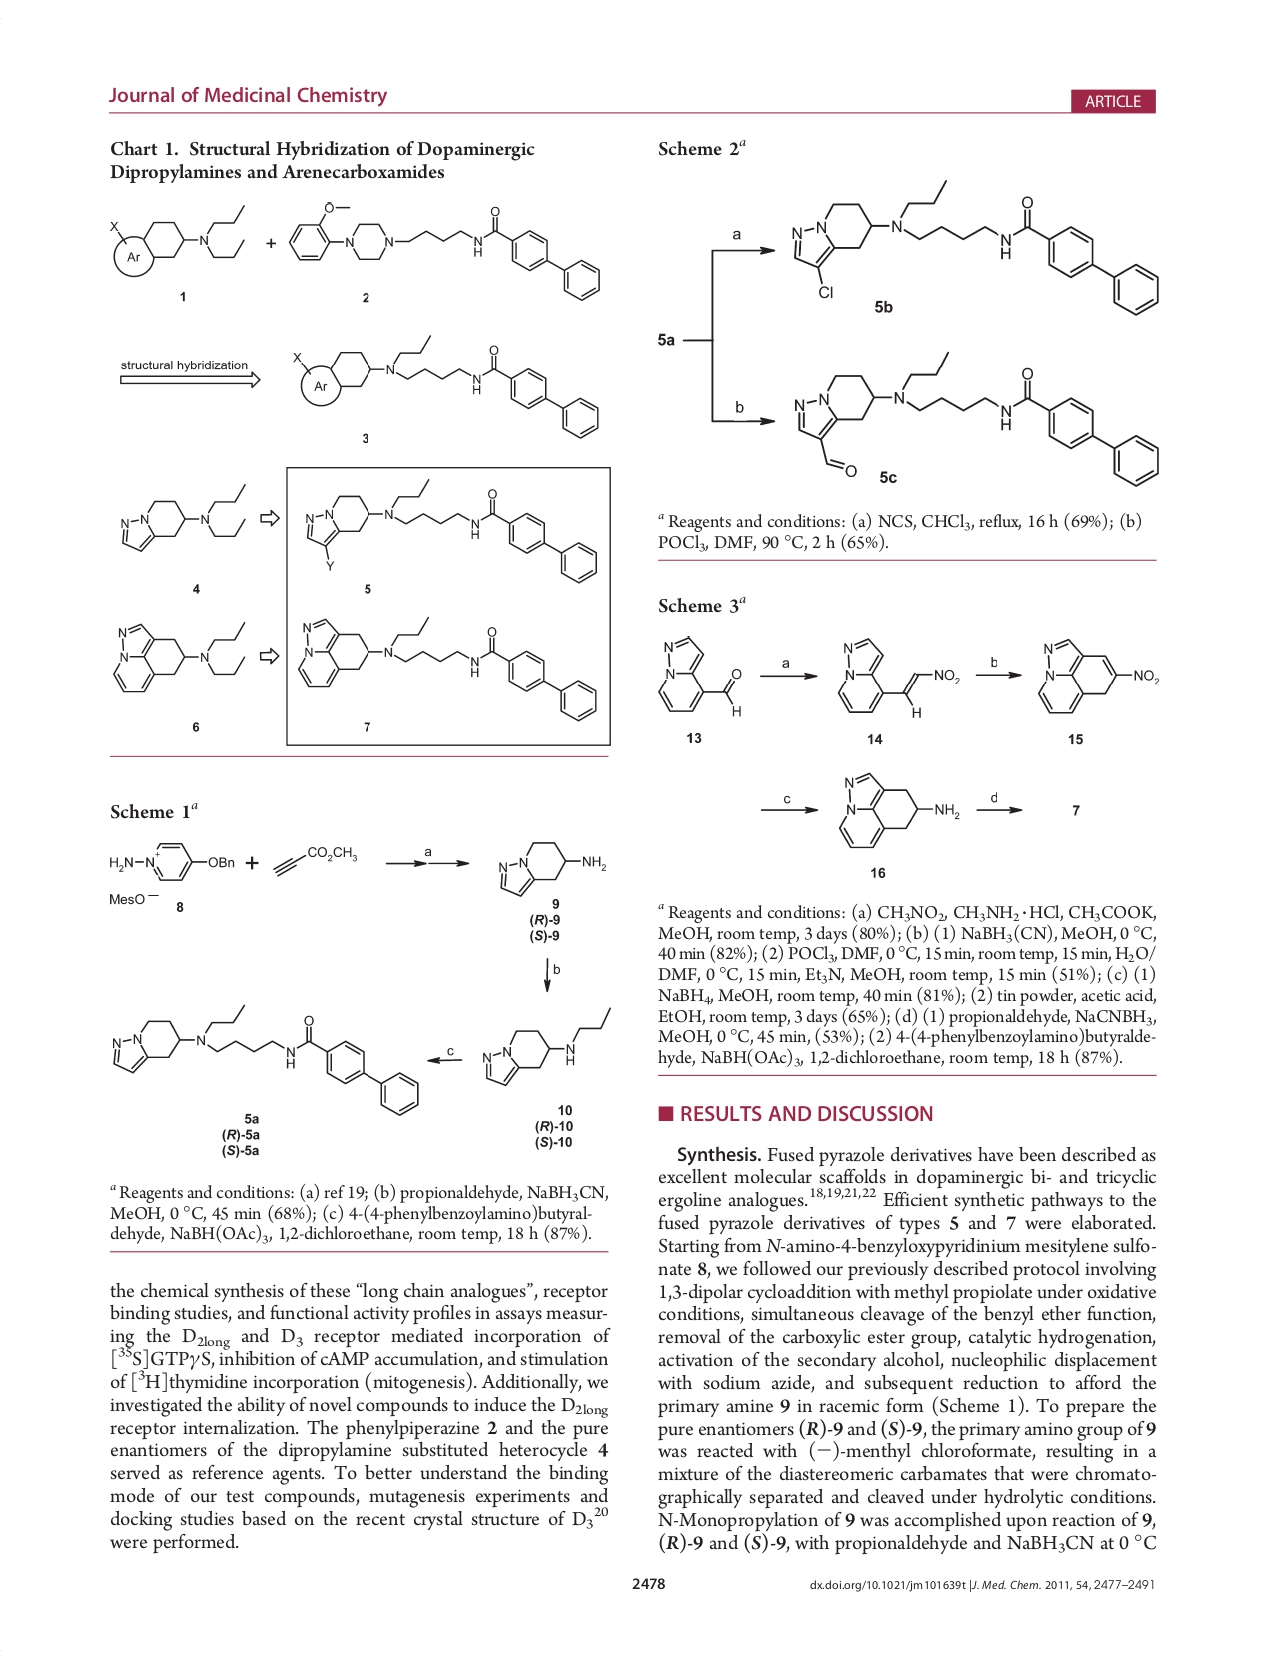exist_molecular: (789, 348, 1164, 492), (785, 178, 1164, 319), (102, 1001, 423, 1118), (291, 610, 602, 723), (286, 331, 602, 442), (298, 475, 602, 589), (283, 199, 604, 302), (832, 629, 964, 723), (98, 614, 251, 696), (477, 1003, 614, 1091), (830, 766, 961, 851), (102, 203, 249, 279), (1031, 633, 1162, 715), (112, 477, 251, 555), (648, 632, 753, 717), (493, 836, 609, 896), (105, 836, 235, 883), (269, 835, 356, 880)
